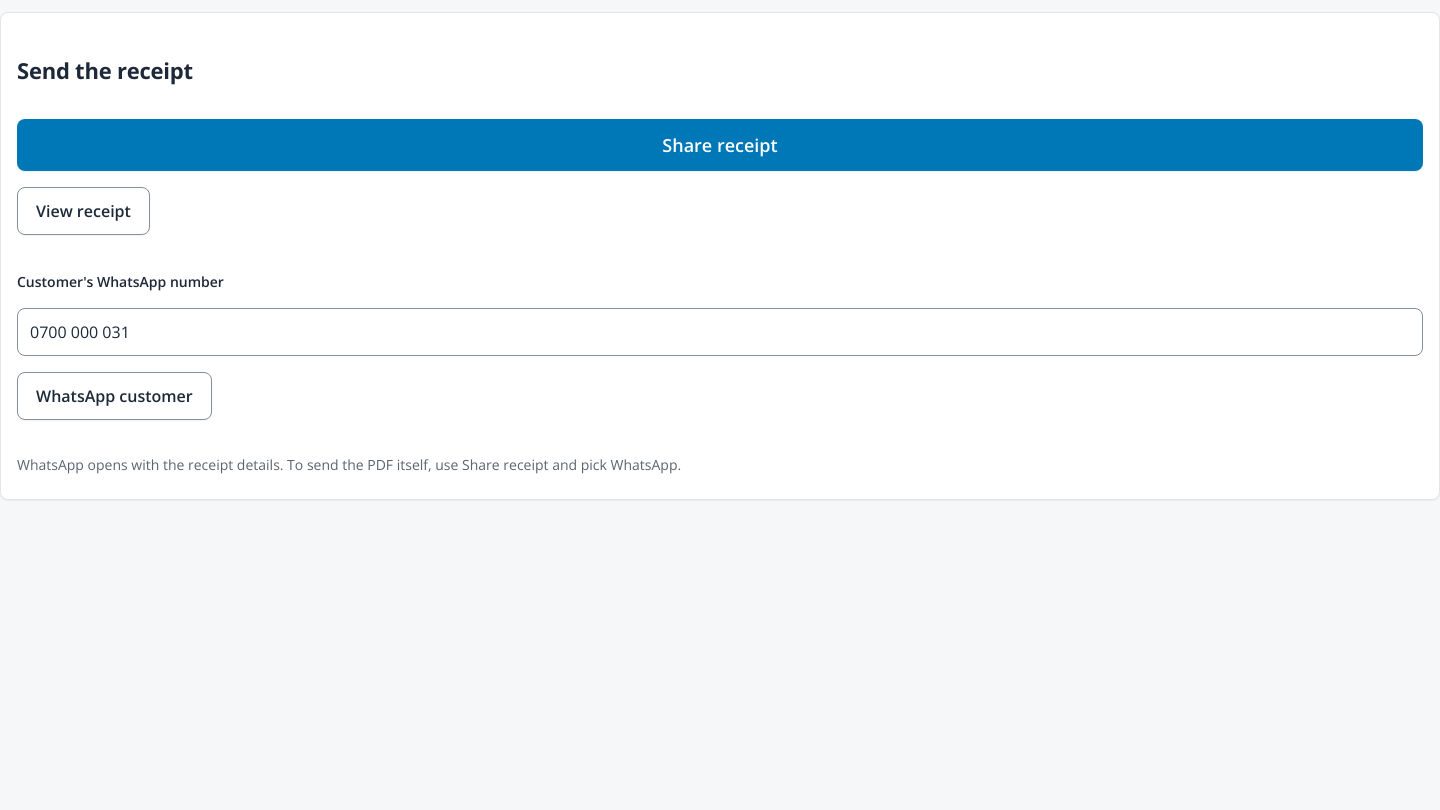
Share receipt › asks for a second tap once, and downloads after a second refusal
This screenshot has width=1440, height=810.
Click the button "Share receipt": coordinates (720, 145) [17,119,1423,171]
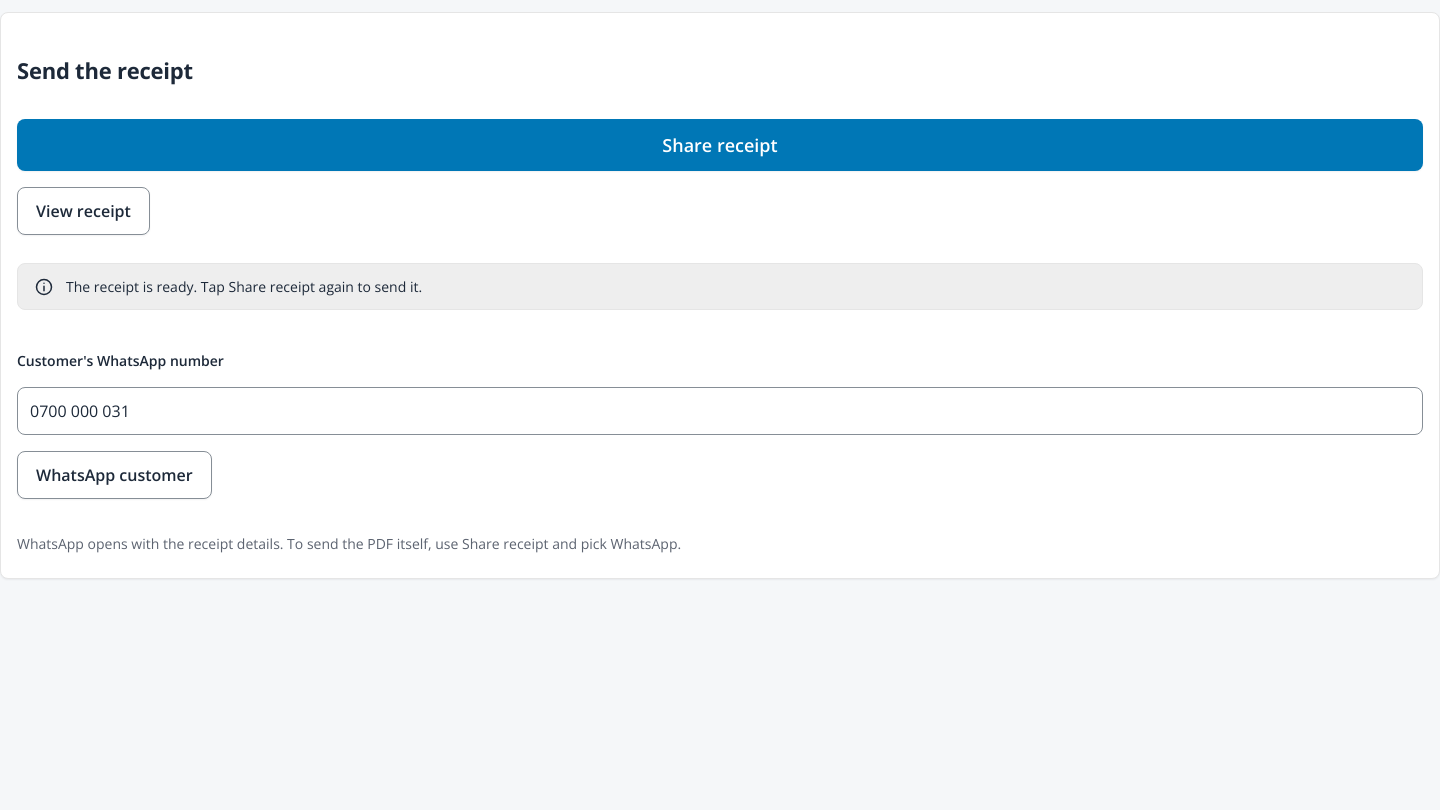
Expected: the text "The receipt is ready. Tap Share receipt again to send it." is shown, [17,263,1423,310]
Click the button "Share receipt": coordinates (720, 145) [17,119,1423,171]
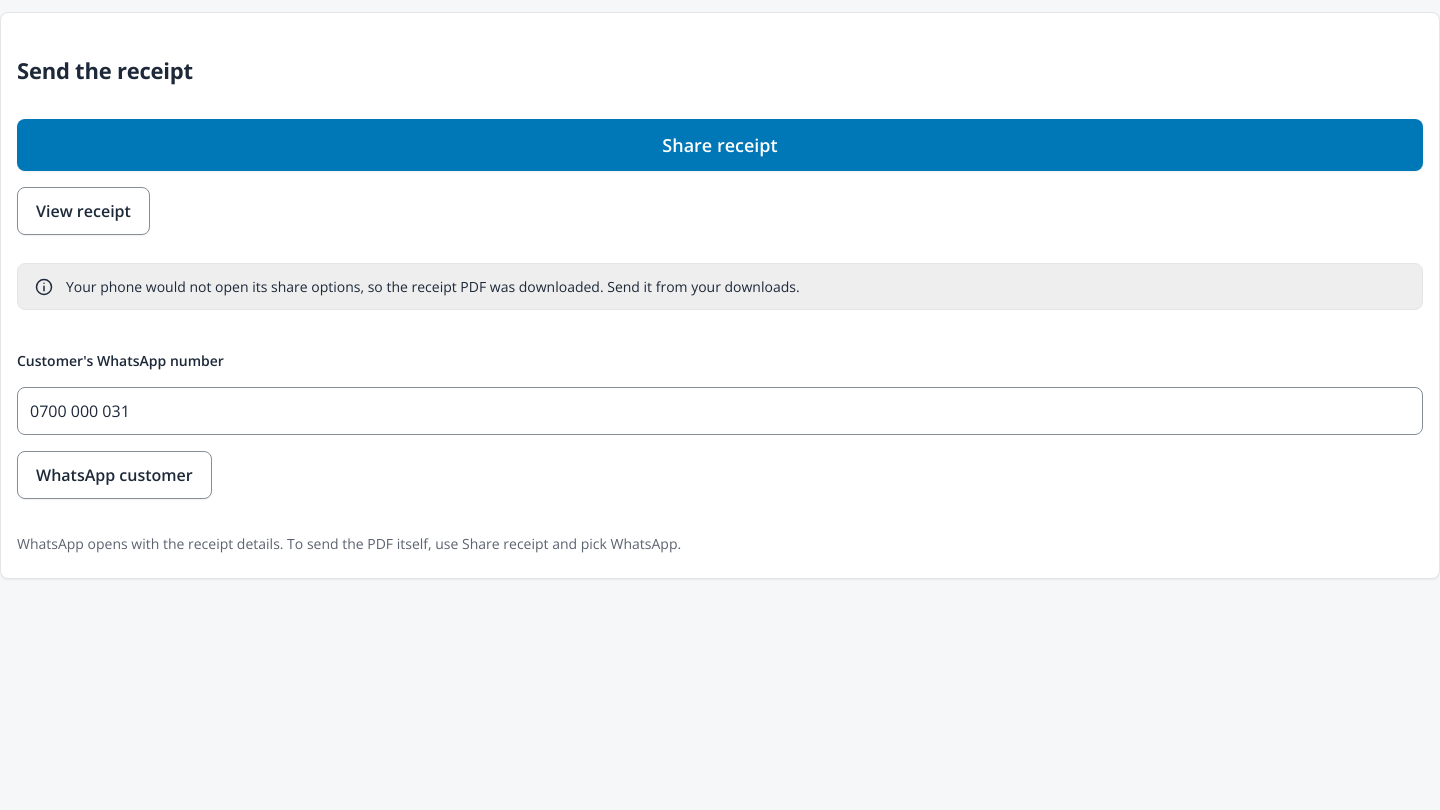
Expected: the text "Your phone would not open its share options, so the receipt PDF was downloaded. Send it from your downloads." is shown, [66,277,800,296]
